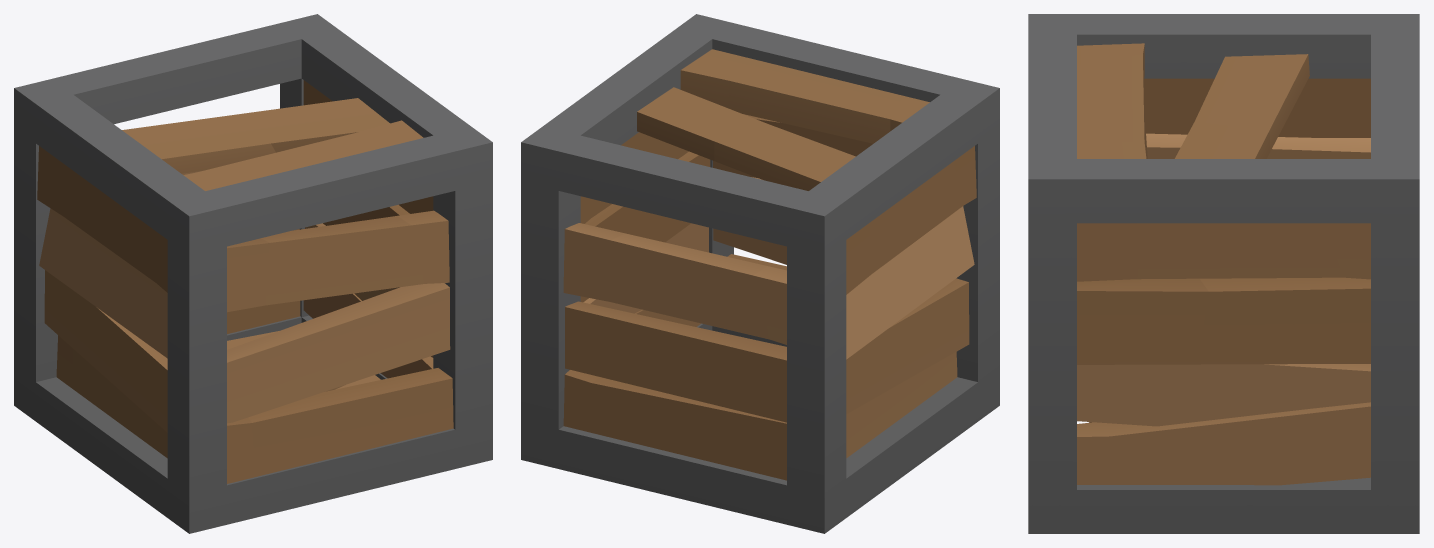
Rendered from Box_Wood_Steel_C.fbx.
3 views of the same model, side by side, from view 1: azimuth 30°, elevation 25°; view 2: azimuth 150°, elevation 25°; view 3: azimuth 270°, elevation 25° (orthographic). The views are drawn at different scales.
Parts seen in each view (by area): view 1: Box_Wood_Steel_C; view 2: Box_Wood_Steel_C; view 3: Box_Wood_Steel_C.
Boxes of the visible parts, x1,y1,x2,y2 form: Box_Wood_Steel_C: (14,14,492,533); Box_Wood_Steel_C: (521,14,999,533); Box_Wood_Steel_C: (1028,14,1419,533).
Size of the model in its own units: 71.97 by 71.97 by 71.97.
